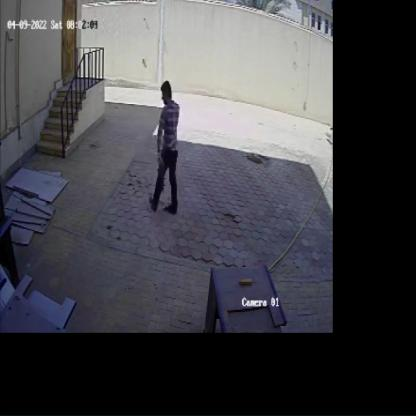handgun: (154, 131, 171, 199)
